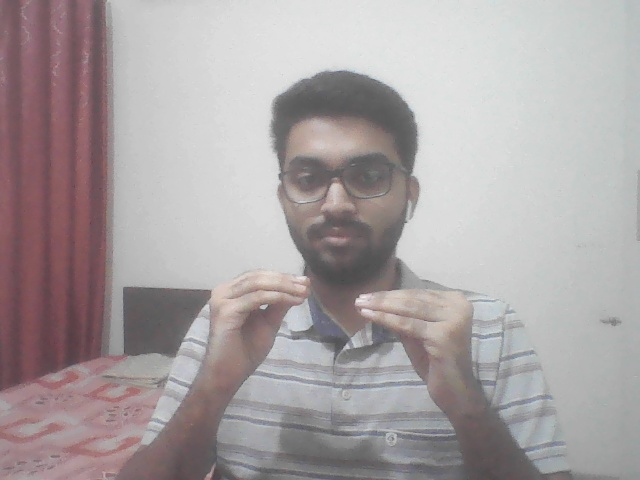more: (189, 261, 505, 423)
